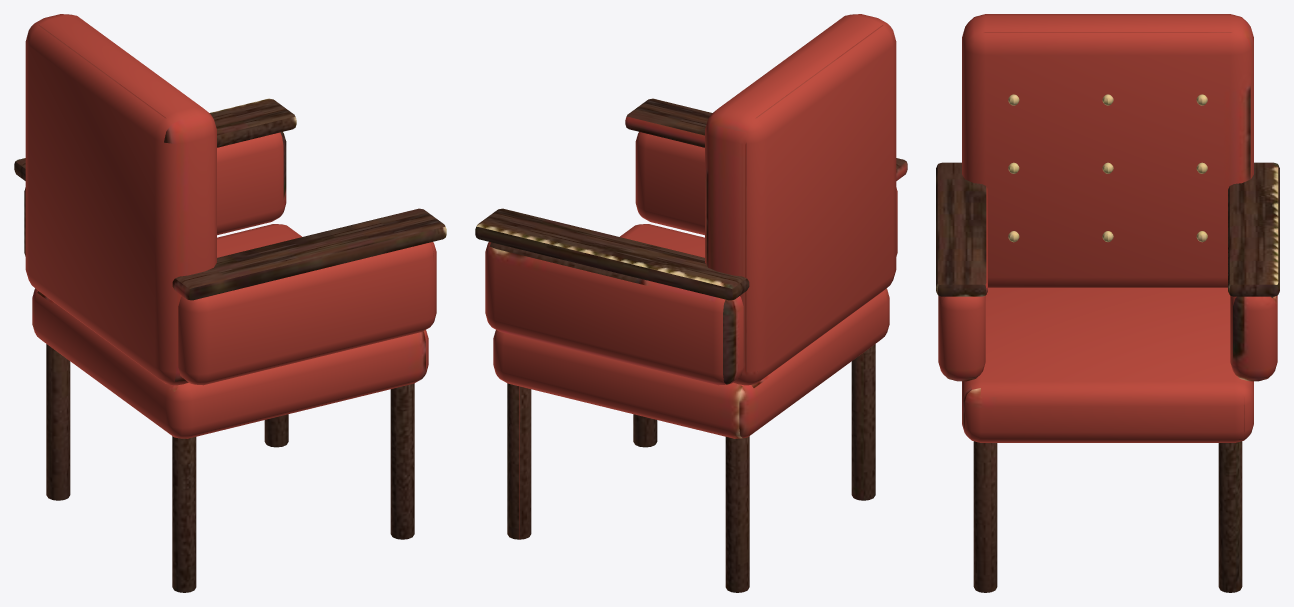
File: armchair.glb
3 views of the same model, side by side, from view 1: azimuth 30°, elevation 25°; view 2: azimuth 150°, elevation 25°; view 3: azimuth 270°, elevation 25° (orthographic). The views are drawn at different scales.
Visible parts, largest first — view 1: back, arm-1, seat, armcap-1, arm1, leg-0.26-0.26, leg0.26-0.26, leg-0.260.26, armcap1, leg0.260.26; view 2: back, arm1, seat, armcap1, arm-1, leg-0.260.26, leg0.260.26, leg-0.26-0.26, armcap-1, leg0.26-0.26; view 3: back, seat, armcap1, armcap-1, arm1, arm-1, leg0.26-0.26, leg0.260.26.
Part boxes in pixels (x1,y1,x2,y2): back: (25, 14, 216, 385); arm-1: (178, 242, 436, 385); seat: (32, 224, 428, 438); armcap-1: (172, 208, 446, 300); arm1: (24, 132, 286, 256); leg-0.26-0.26: (172, 436, 196, 592); leg0.26-0.26: (390, 383, 414, 539); leg-0.260.26: (46, 344, 70, 500); armcap1: (14, 98, 296, 180); leg0.260.26: (264, 414, 288, 447); back: (705, 14, 896, 385); arm1: (485, 242, 743, 385); seat: (493, 224, 889, 438); armcap1: (475, 208, 749, 300); arm-1: (635, 132, 897, 256); leg-0.260.26: (725, 436, 749, 592); leg0.260.26: (507, 383, 531, 539); leg-0.26-0.26: (851, 344, 875, 500); armcap-1: (625, 98, 907, 180); leg0.26-0.26: (633, 414, 657, 447); back: (962, 14, 1253, 287); seat: (962, 287, 1253, 442); armcap1: (1228, 162, 1279, 296); armcap-1: (936, 162, 987, 296); arm1: (1230, 295, 1277, 381); arm-1: (938, 295, 985, 381); leg0.26-0.26: (973, 441, 997, 592); leg0.260.26: (1218, 441, 1242, 592).
Size of the model in its own units: 0.64 by 1.09 by 0.73.
Materials: 1 (1 with a texture image).
